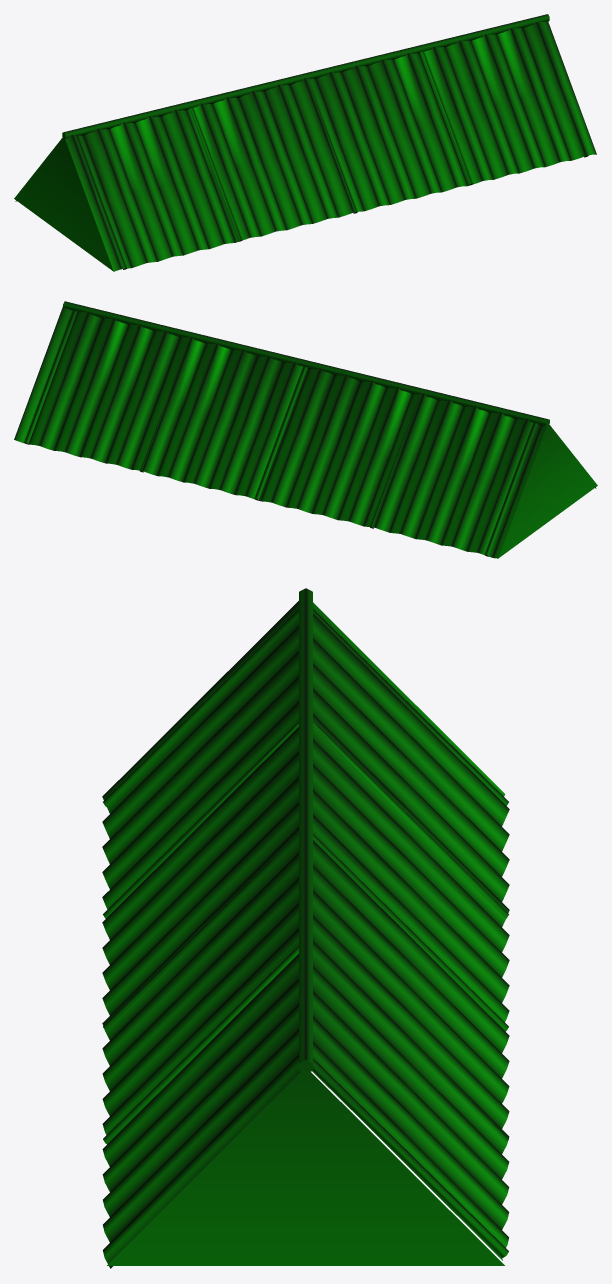
Rendered from corrigatedmetalbarricade.glb.
3 views of the same model, one above another, from view 1: azimuth 30°, elevation 25°; view 2: azimuth 150°, elevation 25°; view 3: azimuth 270°, elevation 25° (orthographic). The views are drawn at different scales.
Visible parts, largest first — view 1: lod0; view 2: lod0; view 3: lod0.
Boxes of the visible parts, box(x1,y1,x2,y2) form: lod0: box(14, 14, 596, 271); lod0: box(14, 301, 597, 558); lod0: box(102, 588, 509, 1268).
Size of what is drawn, in the model's own units: 8.4 by 1.74 by 3.07.
